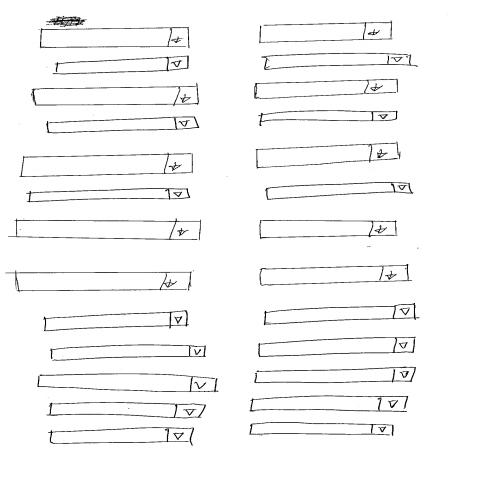Textbox: (20, 152, 195, 179), (14, 219, 204, 241), (255, 142, 402, 170), (15, 271, 194, 293), (36, 373, 219, 394), (32, 86, 202, 108), (254, 78, 400, 102), (258, 265, 410, 288), (263, 304, 418, 326), (39, 28, 192, 50), (258, 337, 417, 358), (42, 311, 190, 333), (258, 22, 394, 45), (49, 344, 207, 363), (46, 116, 201, 135), (53, 56, 190, 77), (263, 53, 414, 72), (258, 220, 400, 240), (254, 367, 418, 384), (47, 402, 208, 419), (249, 396, 410, 413), (265, 183, 414, 201), (27, 188, 192, 204), (49, 427, 195, 445), (259, 111, 400, 126), (249, 423, 396, 437)
